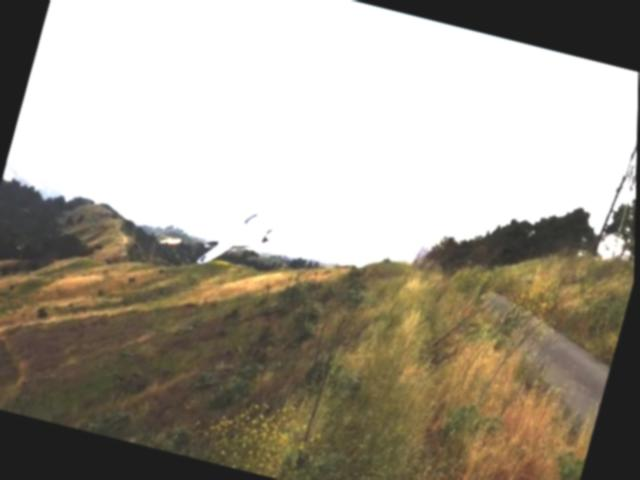iha: (194, 202, 275, 278)
